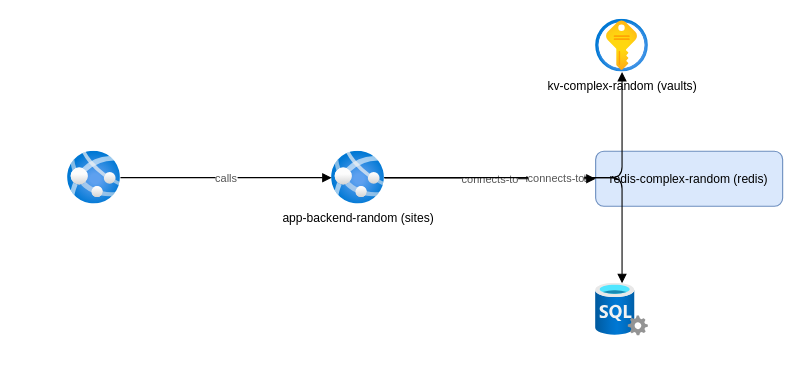
Some shapes in this 802 by 376 pixel diagram are drawn without their labels. Each missing label, with the box of its shape:
app-frontend-random (sites): (67, 151, 120, 204)
sql-complex-random (servers): (595, 283, 648, 336)
